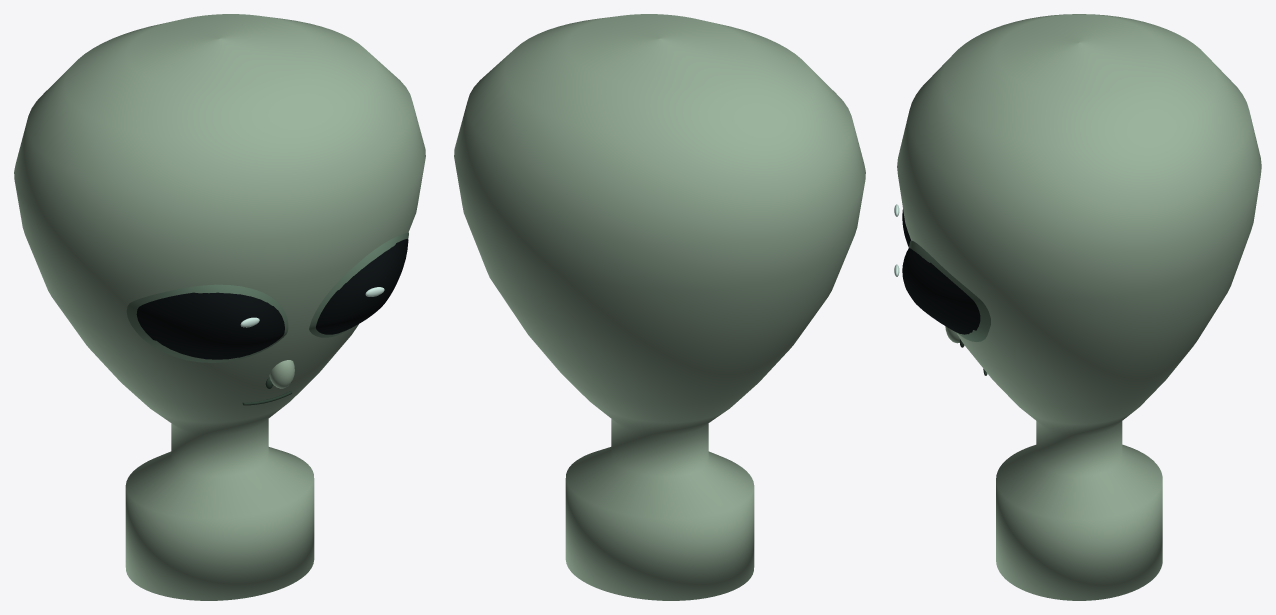
Rendered from AlienHead.glb.
3 renders of one model, left to right at view 1: azimuth 30°, elevation 25°; view 2: azimuth 150°, elevation 25°; view 3: azimuth 270°, elevation 25°, orthographic.
Parts seen in each view (by area): view 1: AlienHead; view 2: AlienHead; view 3: AlienHead.
Part boxes in pixels (<box>): AlienHead: <box>14,14,425,600</box>; AlienHead: <box>454,14,865,600</box>; AlienHead: <box>894,14,1261,600</box>.
Size of the model in its own units: 0.796 by 1.09 by 0.6979.
